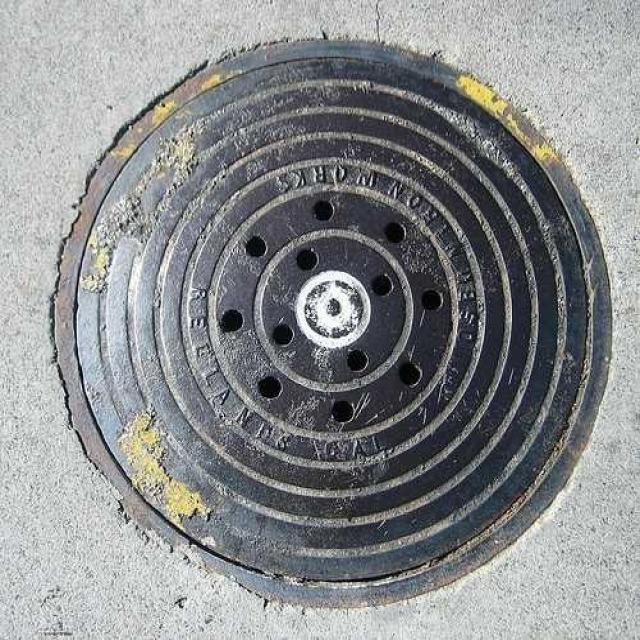manhole: (54, 4, 611, 606)
